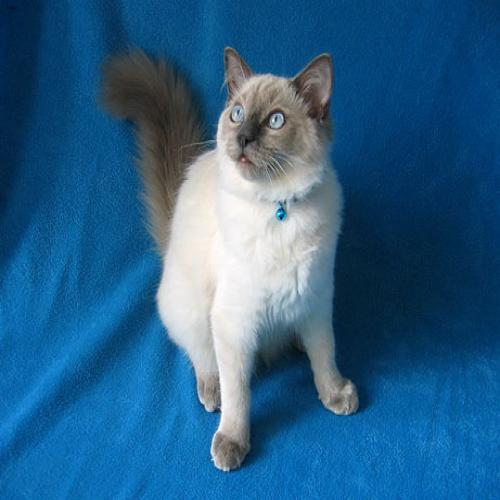ragdoll: (203, 41, 348, 220)
